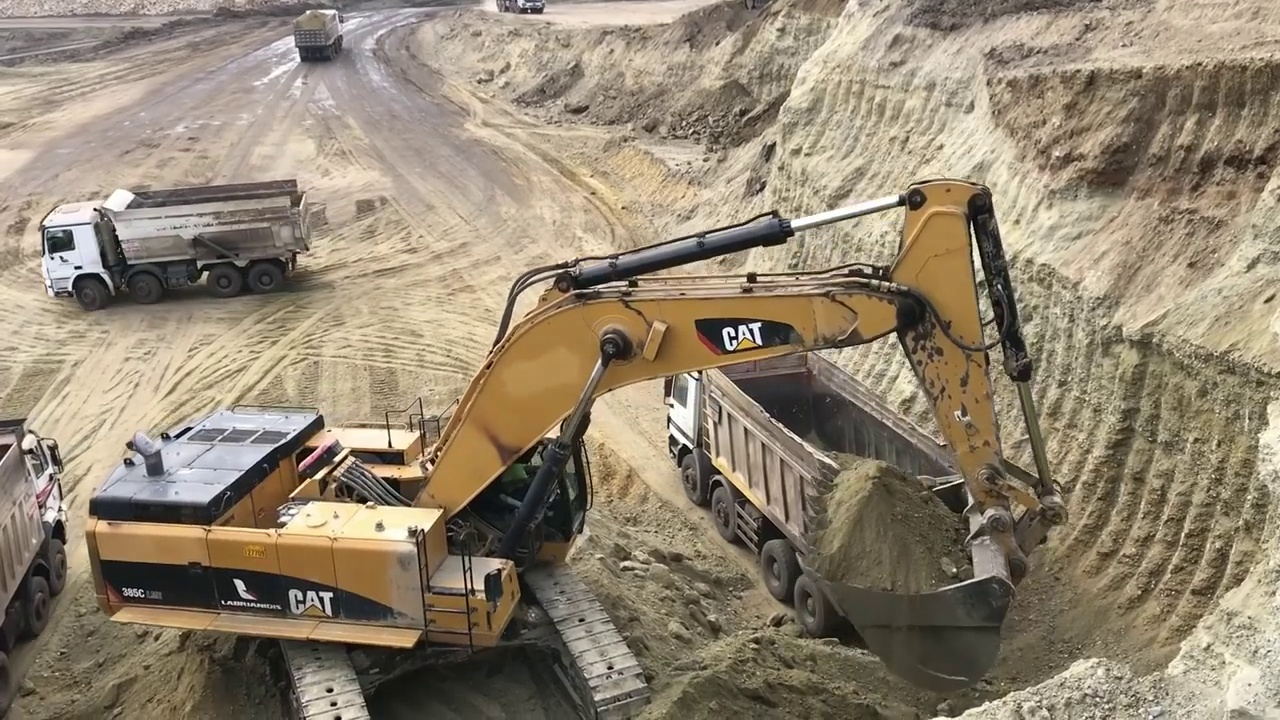excavator: (87, 178, 1072, 719)
truck: (666, 333, 971, 636), (35, 178, 322, 305), (2, 415, 69, 685), (292, 10, 345, 57)
